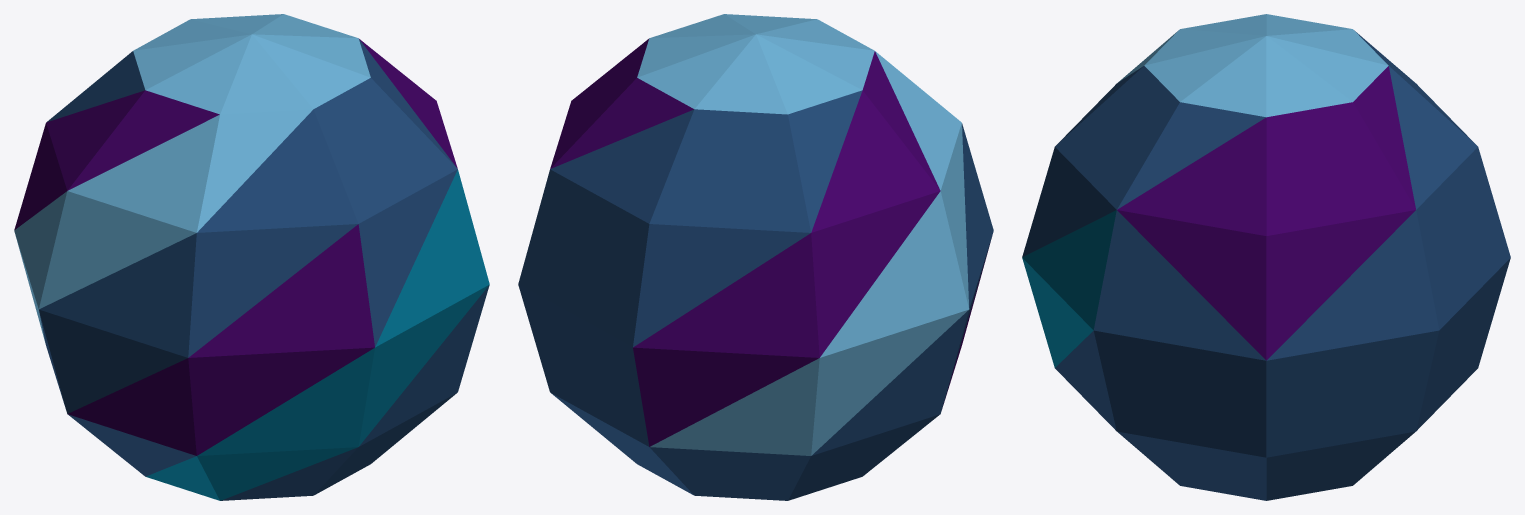
The model's file is space_planet_c.gltf.
3 views of the same model, side by side, from view 1: azimuth 30°, elevation 25°; view 2: azimuth 150°, elevation 25°; view 3: azimuth 270°, elevation 25° (orthographic).
Parts seen in each view (by area): view 1: space_planet_c; view 2: space_planet_c; view 3: space_planet_c.
Boxes of the visible parts, <box> form: space_planet_c: <box>14,14,489,500</box>; space_planet_c: <box>518,14,993,500</box>; space_planet_c: <box>1022,14,1510,500</box>.
Bounding box in the file's own units: 10 × 10 × 10.
